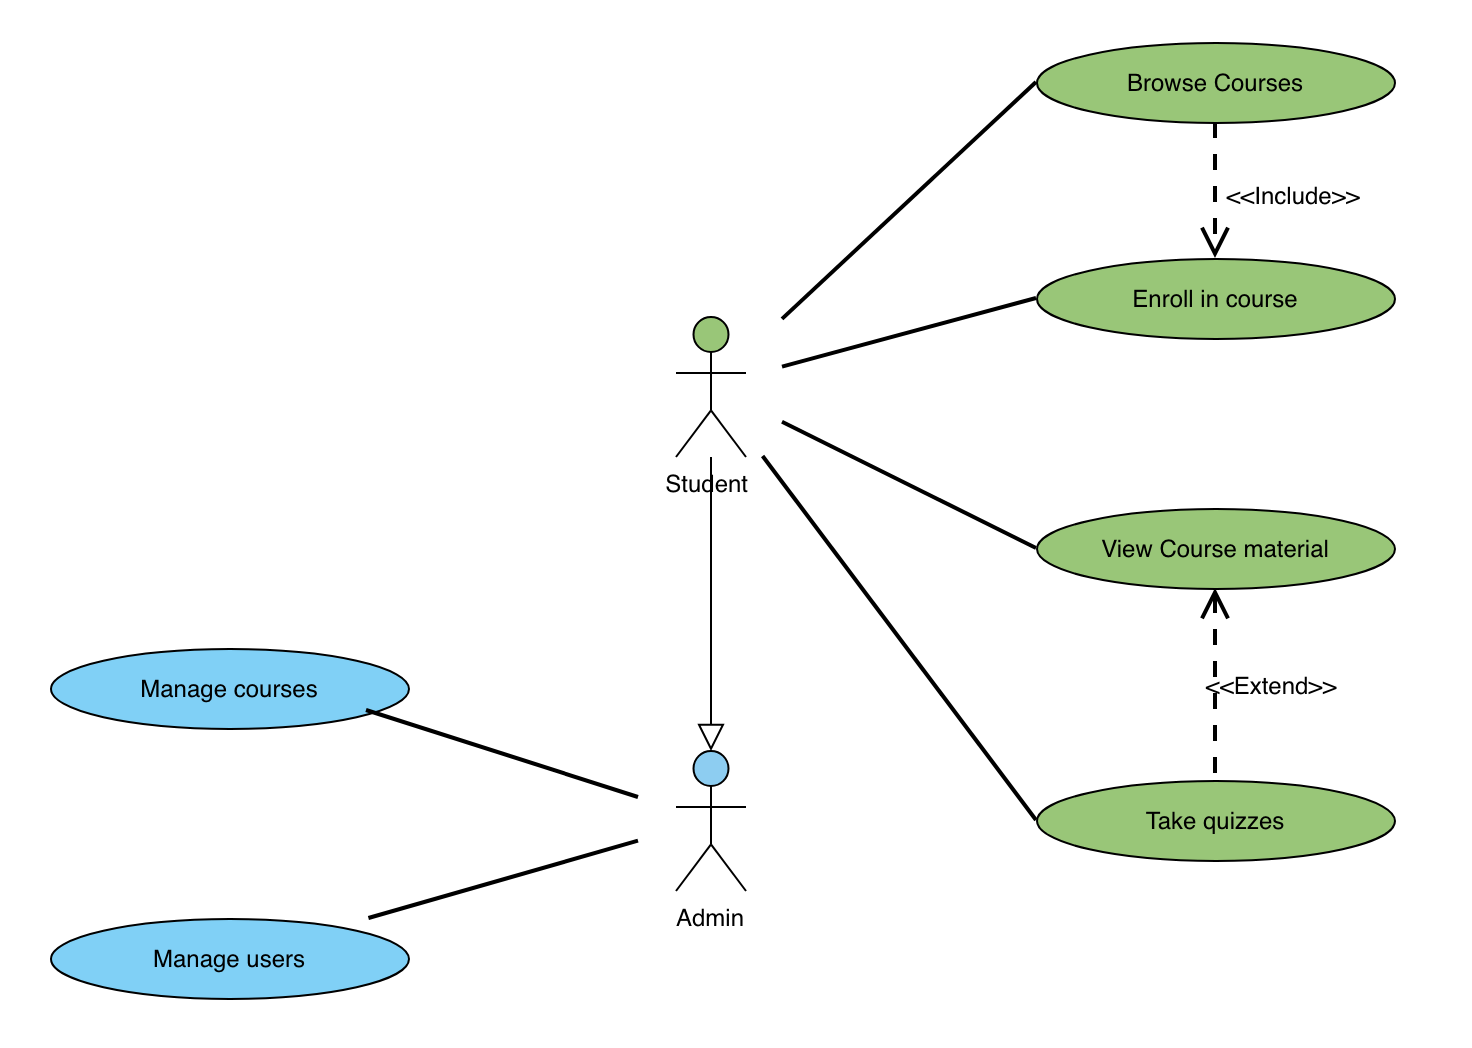actor: (670, 311, 752, 462), (672, 751, 755, 896)
association: (761, 453, 1040, 826), (778, 81, 1037, 320), (777, 416, 1037, 546), (371, 709, 642, 800), (366, 837, 638, 919), (779, 293, 1037, 367)
generalization: (693, 459, 729, 751)
text: (1122, 279, 1329, 323), (1090, 531, 1339, 566), (110, 671, 335, 710), (1117, 62, 1310, 101), (146, 940, 314, 977), (1134, 803, 1294, 837), (1223, 180, 1372, 215), (1208, 671, 1339, 702), (662, 471, 758, 501), (670, 903, 754, 936)
use_case: (1034, 37, 1398, 127), (1033, 505, 1397, 593), (46, 914, 411, 1003), (1034, 777, 1395, 865), (46, 646, 412, 734), (1037, 255, 1399, 343)
